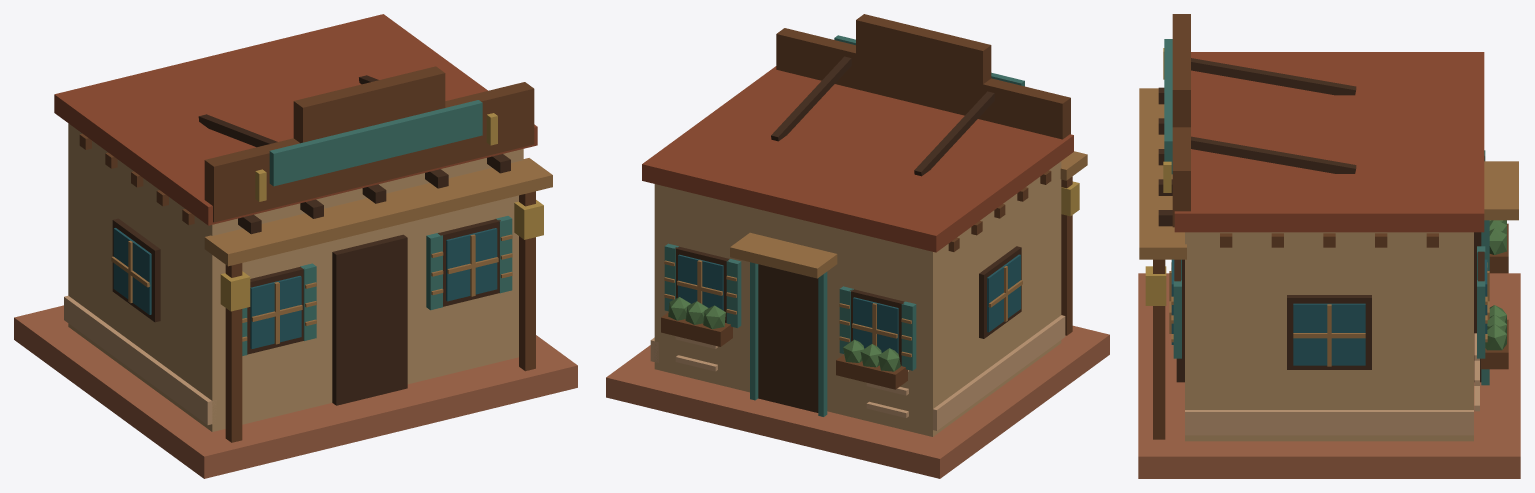
File: Desert_Saloon_Showcase.glb
The picture shows the model from 3 angles, left to right: view 1: azimuth 30°, elevation 25°; view 2: azimuth 150°, elevation 25°; view 3: azimuth 270°, elevation 25°; orthographic projection. The views are drawn at different scales.
Parts seen in each view (by area): view 1: Desert_Saloon_Showcase; view 2: Desert_Saloon_Showcase; view 3: Desert_Saloon_Showcase.
Boxes of the visible parts, left/top/right/bottom form: Desert_Saloon_Showcase: left=14, top=14, right=577, bottom=478; Desert_Saloon_Showcase: left=606, top=14, right=1109, bottom=478; Desert_Saloon_Showcase: left=1138, top=14, right=1520, bottom=478.
Size of the model in its own units: 4.2 by 3.55 by 3.7.
